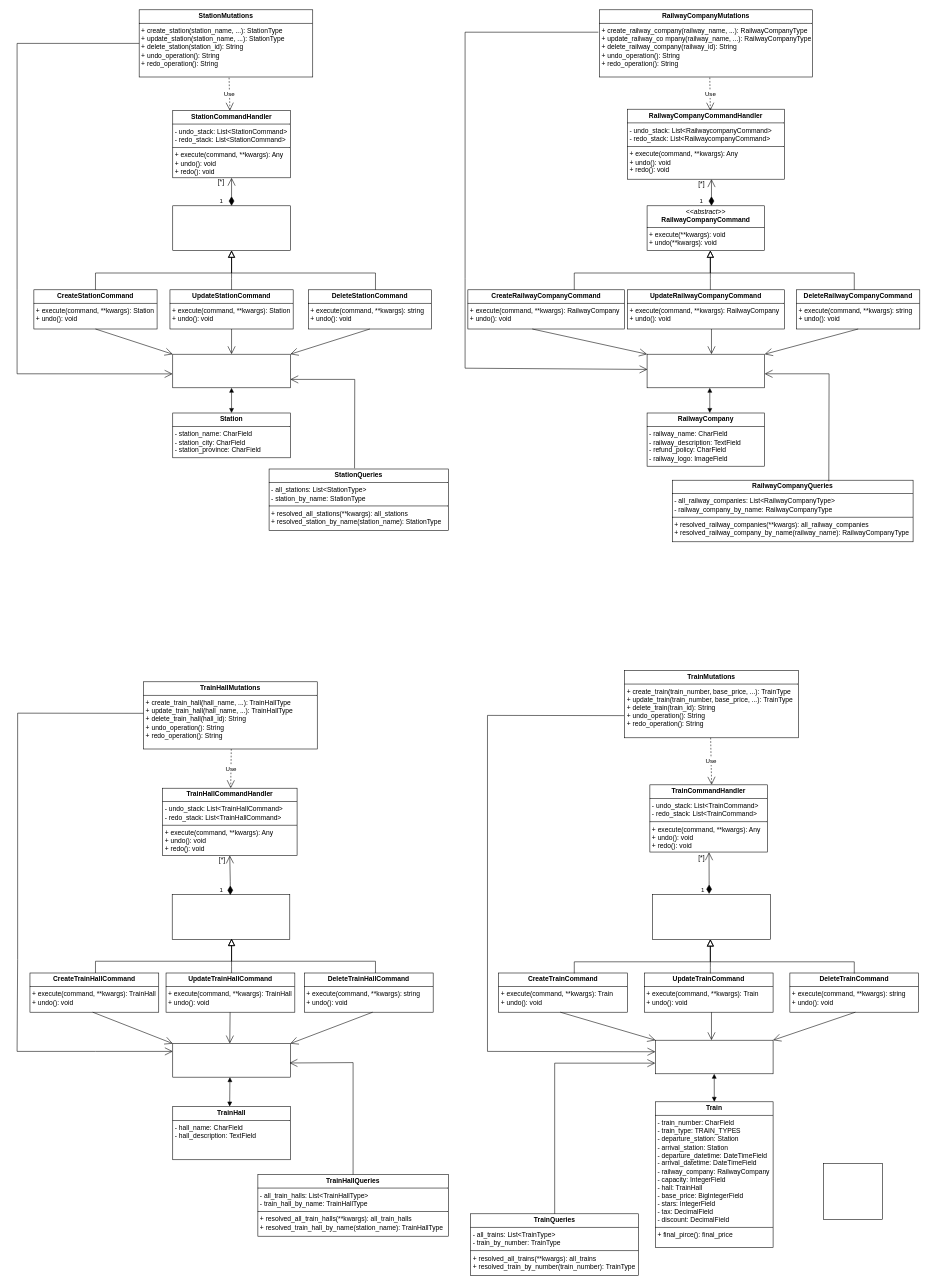
Some shapes in this 930 by 1285 pixel diagram are drawn without their labels. Each missing label, with the centre of its shape:
"<<abstract>> Station Command + execute(**kwargs): void + undo(**kwargs): void" goes at (x=231, y=228).
"<<abstract>> TrainCommand + execute(**kwargs): void + undo(**kwargs): void" goes at (x=711, y=916).
"<<abstract>> TrainHall Command + execute(**kwargs): void + undo(**kwargs): void" goes at (x=231, y=916).
"<<Enumeration>> TRAIN_TYPES 4_coupe bus 6_coupe" goes at (x=852, y=1191).
"RailwayCompanyType - model: RailwayCompany" goes at (x=706, y=371).
"StationType + model: Station" goes at (x=231, y=371).
"TrainHallType - model: TrainHall" goes at (x=231, y=1060).
"TrainType - model: Train" goes at (x=714, y=1057).
